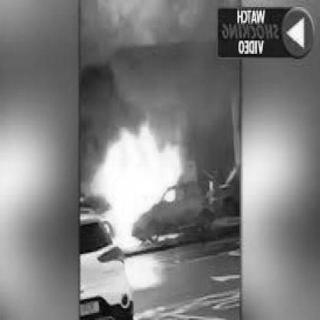Smoke: (100, 3, 201, 45)
